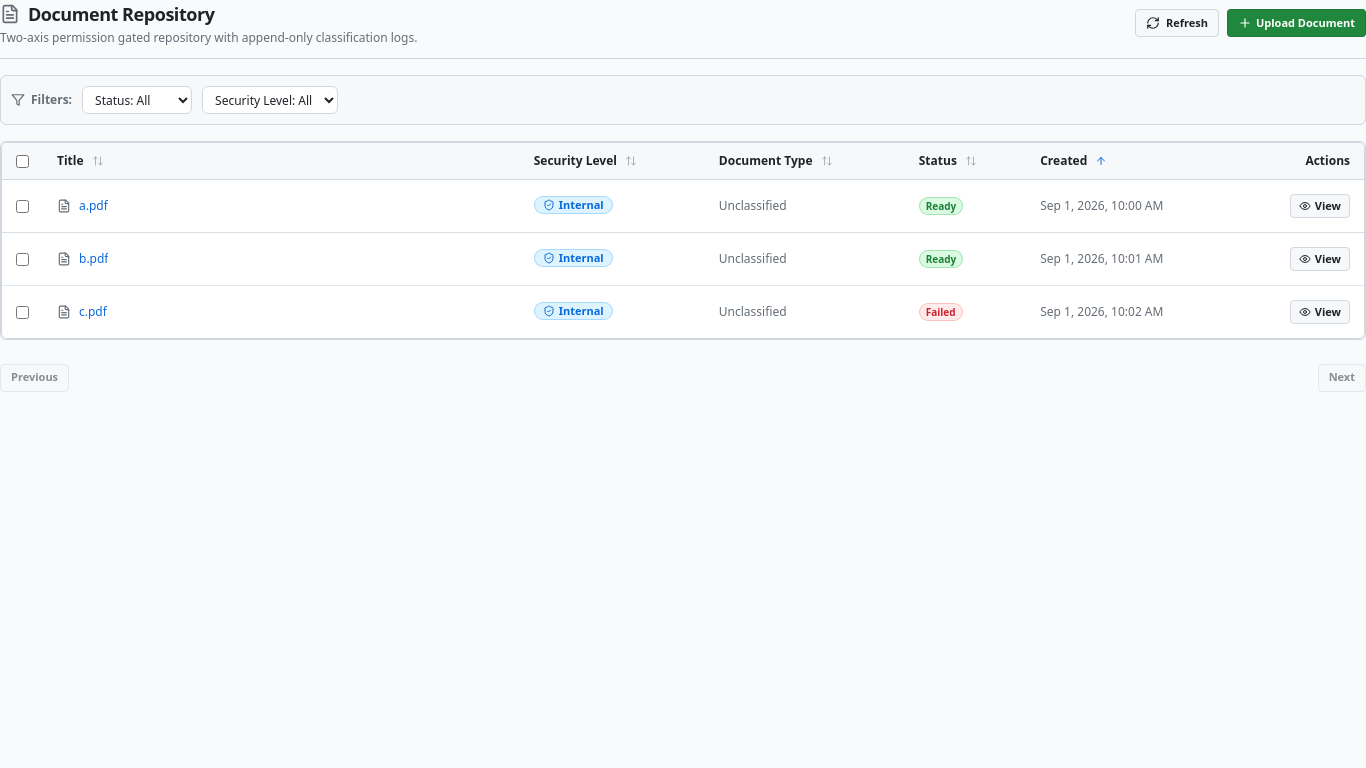
Scenario: DocumentsPage — auto-classify › asks for confirmation before auto-classifying
The width and height of the screenshot is (1366, 768).
Expected: the table with test id "documents-table" is shown, [2,143,1364,338]
Click the checkbox named "Select a.pdf": (22, 206) [16,200,29,213]
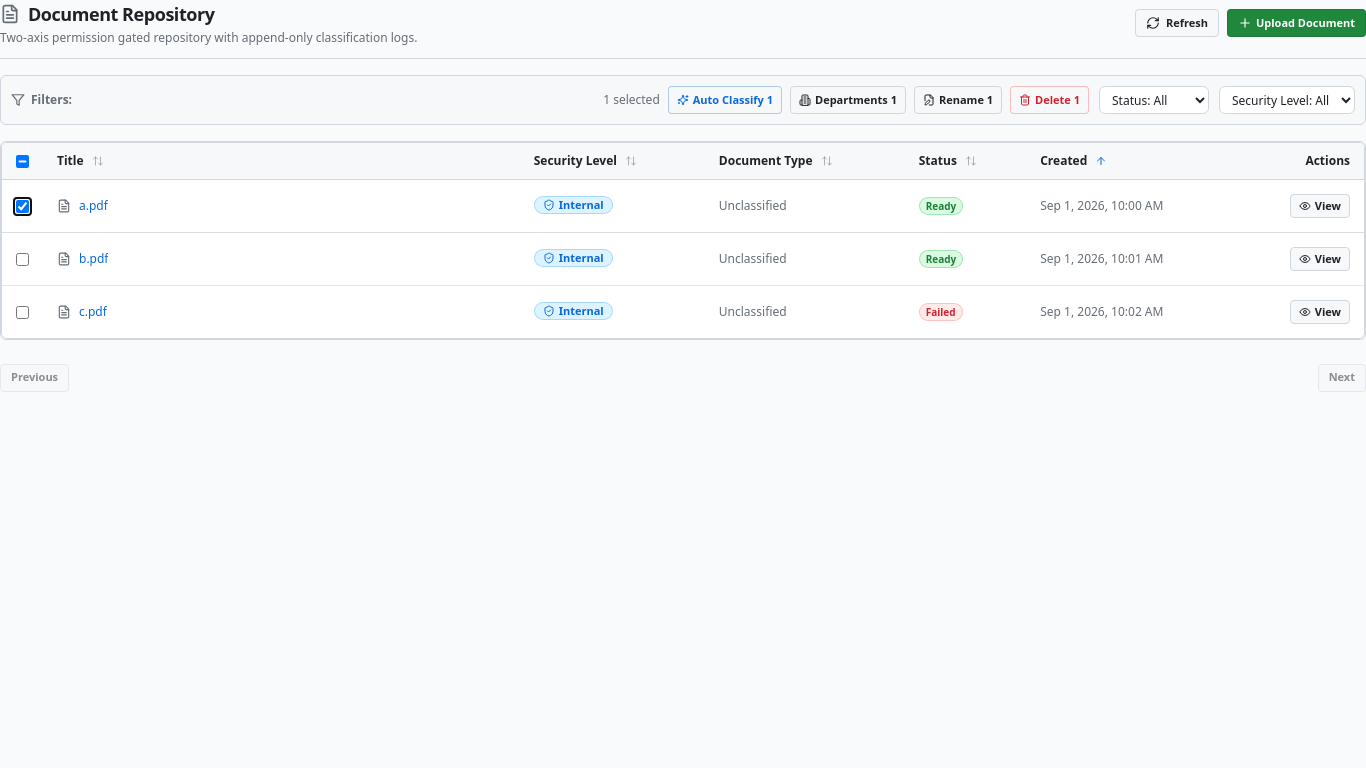
Click the button with test id "auto-classify-selected": (725, 100) [668,86,782,114]
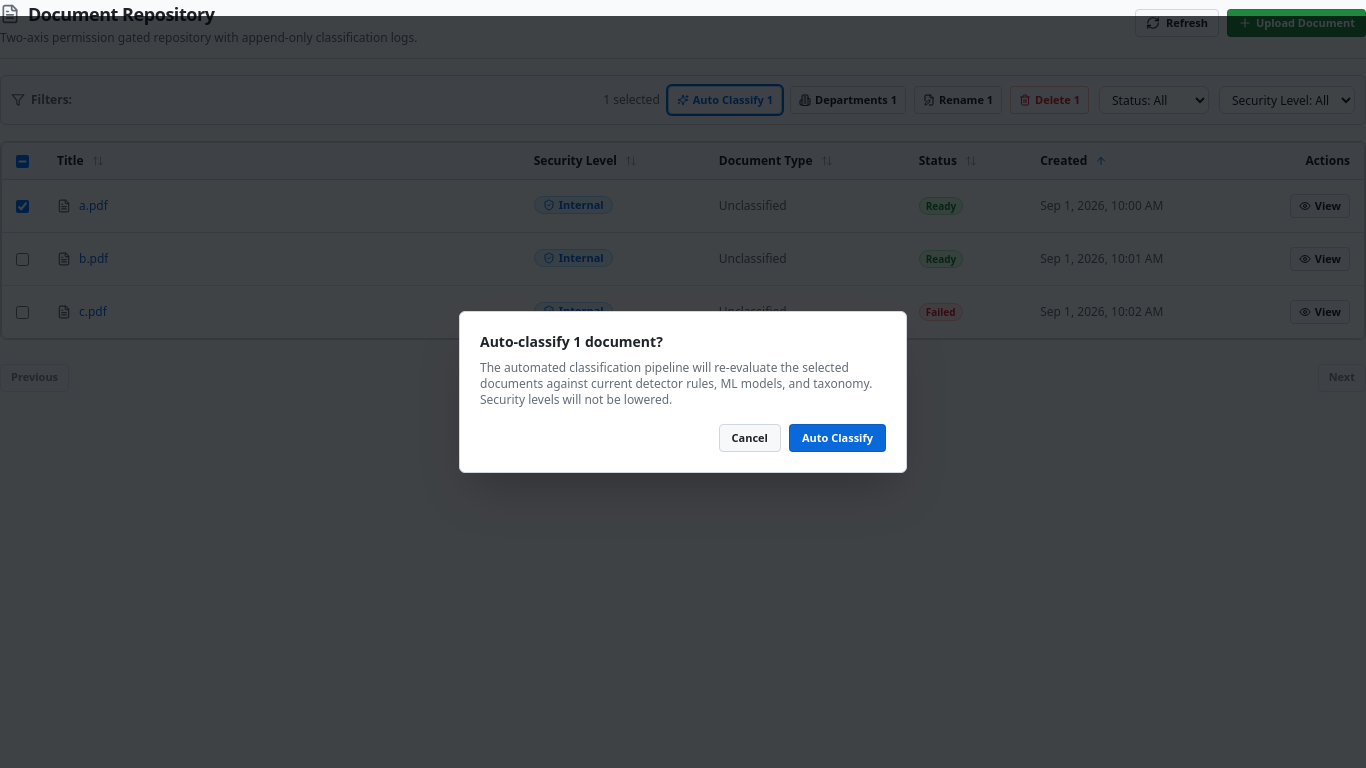
Expected: the button with test id "confirm-auto-classify" is shown, [789,424,886,452]
